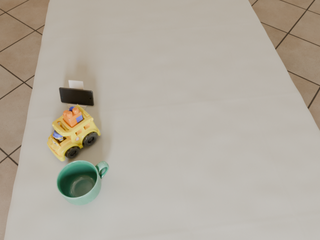cup: (56, 160, 109, 205)
phone: (59, 88, 94, 106)
toy_car: (47, 105, 100, 161)
